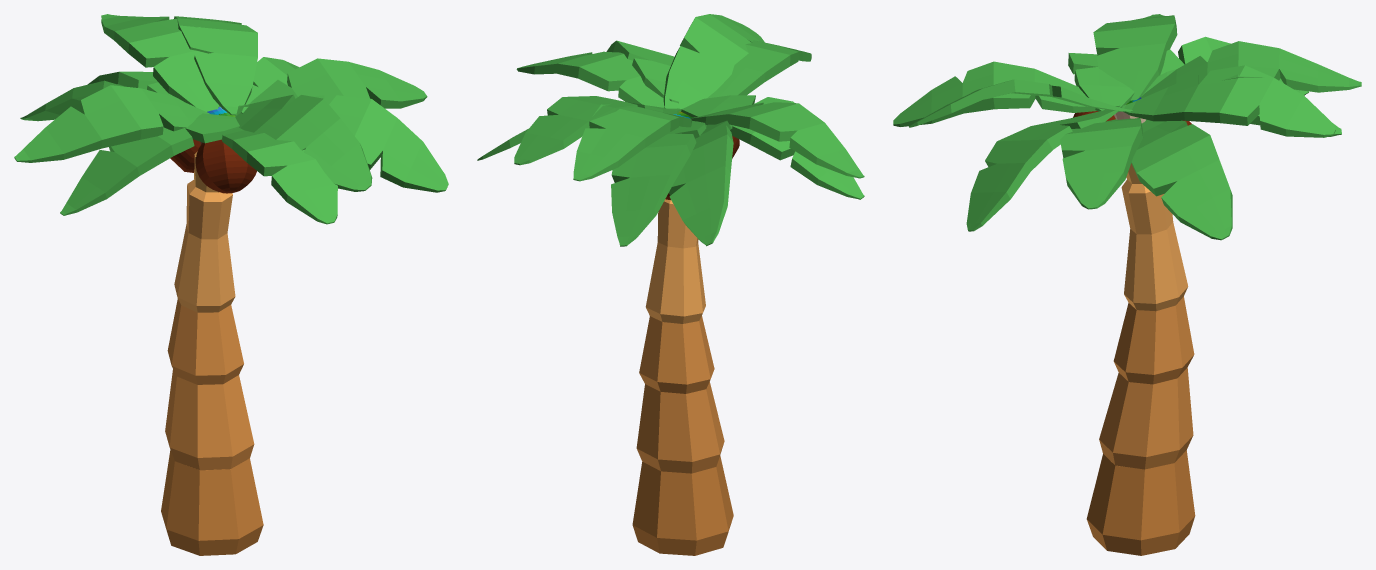
The model's file is palmera (1).fbx.
3 renders of one model, left to right at view 1: azimuth 30°, elevation 25°; view 2: azimuth 150°, elevation 25°; view 3: azimuth 270°, elevation 25°, orthographic. The views are drawn at different scales.
Parts seen in each view (by area): view 1: Cocos.001, Cocos; view 2: Cocos.001, Cocos; view 3: Cocos.001, Cocos.
Part boxes in pixels (left/top/right/bottom): Cocos.001: left=14, top=14, right=448, bottom=470; Cocos: left=161, top=450, right=263, bottom=555; Cocos.001: left=477, top=14, right=864, bottom=473; Cocos: left=632, top=456, right=733, bottom=555; Cocos.001: left=893, top=14, right=1361, bottom=469; Cocos: left=1086, top=450, right=1195, bottom=555.
Size of the model in its own units: 928 by 1103 by 971.
